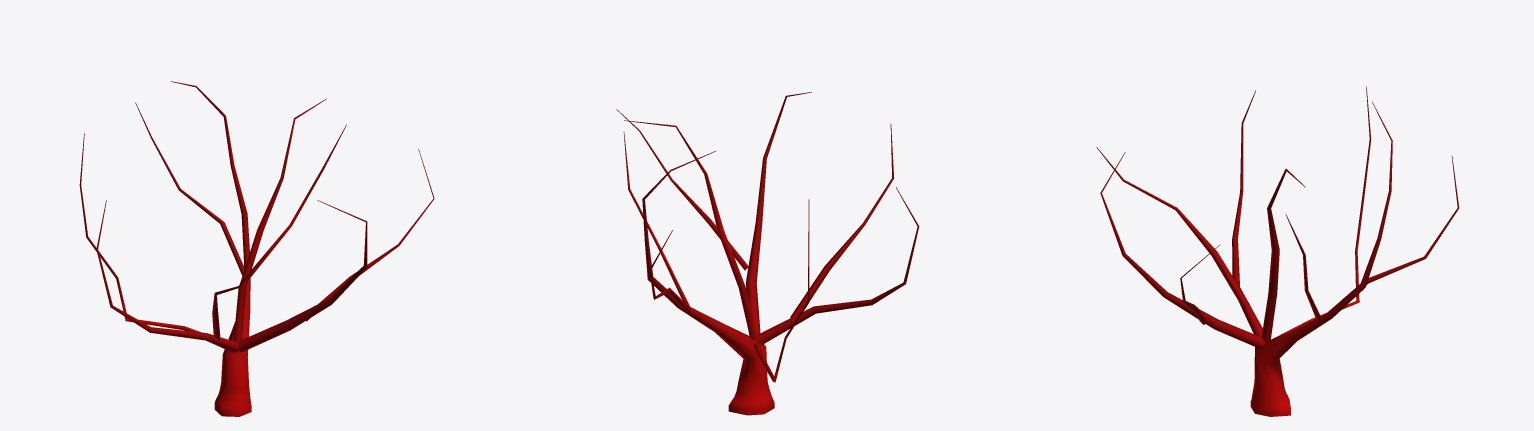
File: oak_a_lod2.glb
3 views of the same model, side by side, from view 1: azimuth 30°, elevation 25°; view 2: azimuth 150°, elevation 25°; view 3: azimuth 270°, elevation 25° (orthographic). The views are drawn at different scales.
Parts seen in each view (by area): view 1: oak_a_LOD2; view 2: oak_a_LOD2; view 3: oak_a_LOD2.
Boxes of the visible parts, x1=… form: oak_a_LOD2: x1=79, y1=81, x2=434, y2=416; oak_a_LOD2: x1=616, y1=92, x2=919, y2=415; oak_a_LOD2: x1=1096, y1=86, x2=1459, y2=416.
Bounding box in the file's own units: 18.31 × 15.19 × 18.67.
